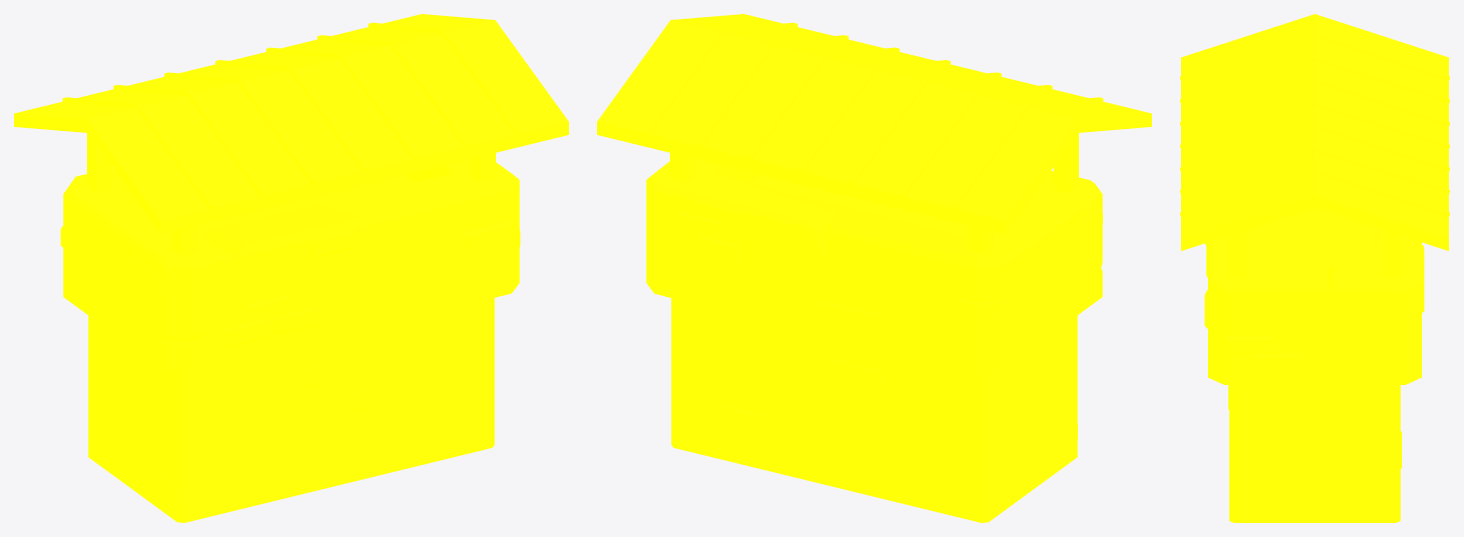
Rendered from chimney-christmas-top.glb.
The picture shows the model from 3 angles, left to right: view 1: azimuth 30°, elevation 25°; view 2: azimuth 150°, elevation 25°; view 3: azimuth 270°, elevation 25°; orthographic projection. The views are drawn at different scales.
Visible parts, largest first — view 1: chimney_christmas_top; view 2: chimney_christmas_top; view 3: chimney_christmas_top.
Boxes of the visible parts, <box> form: chimney_christmas_top: <box>14,14,568,522</box>; chimney_christmas_top: <box>597,14,1151,522</box>; chimney_christmas_top: <box>1180,14,1449,522</box>.
Size of the model in its own units: 1.59 by 1.43 by 0.9998.
Materials: 1 (1 with a texture image).
